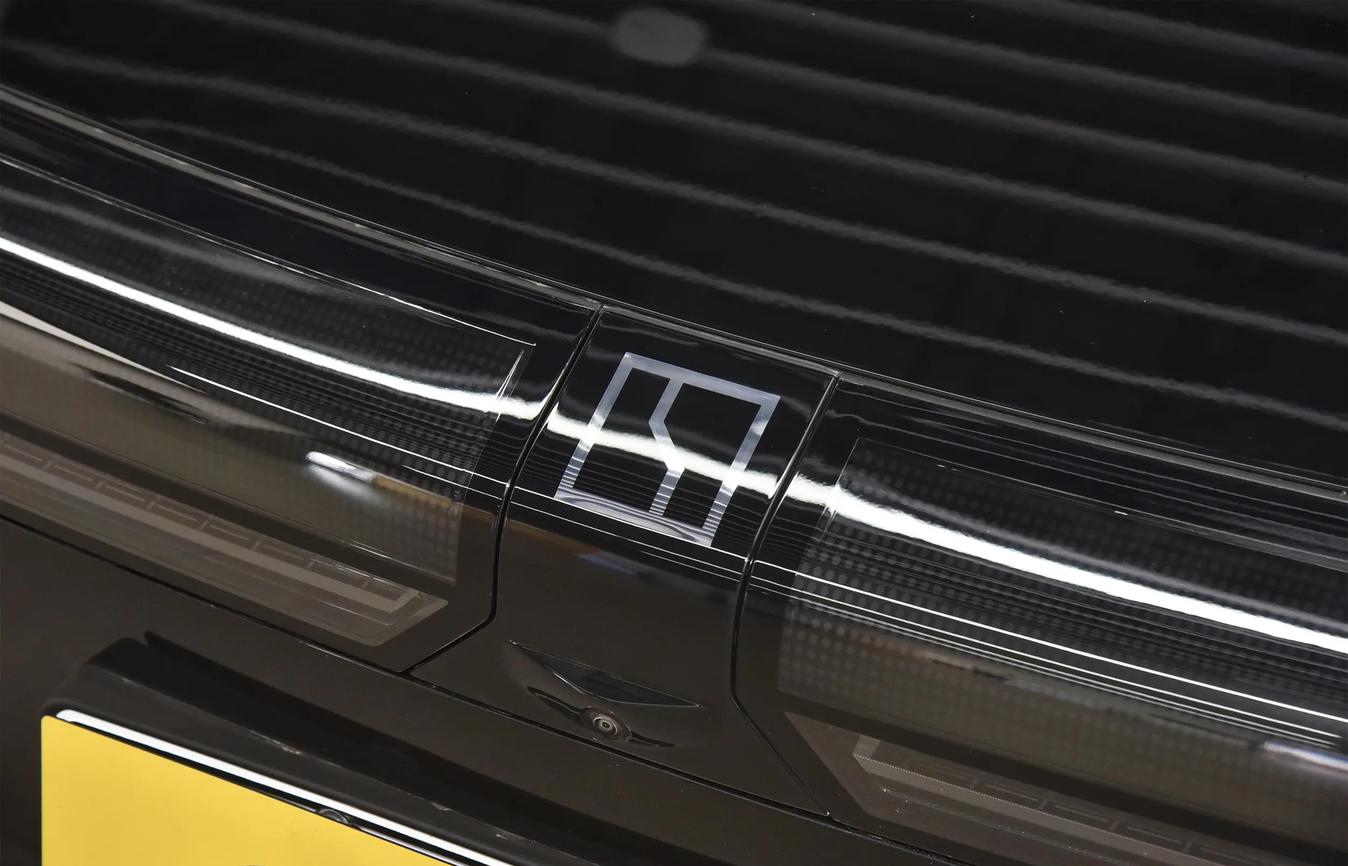ZEEKR: (554, 352, 780, 547)
